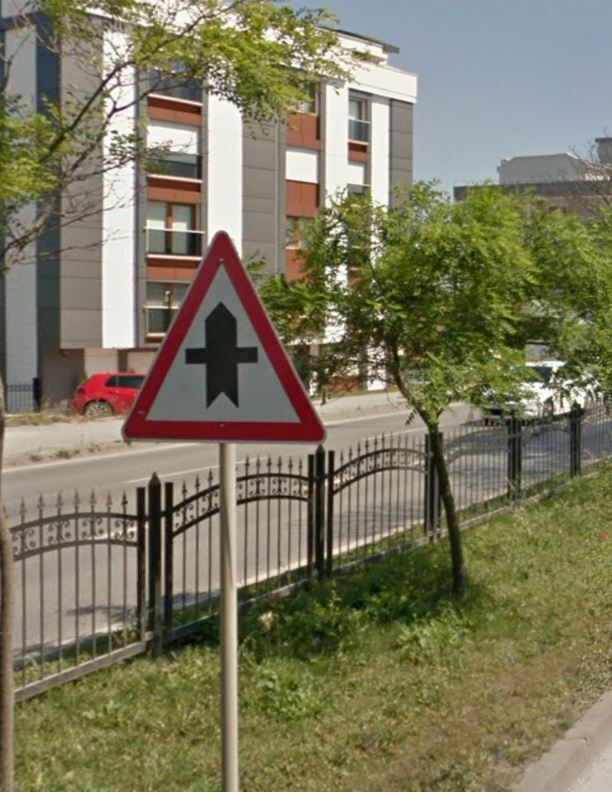Ana Yol Tali Yol: (130, 231, 329, 445)
